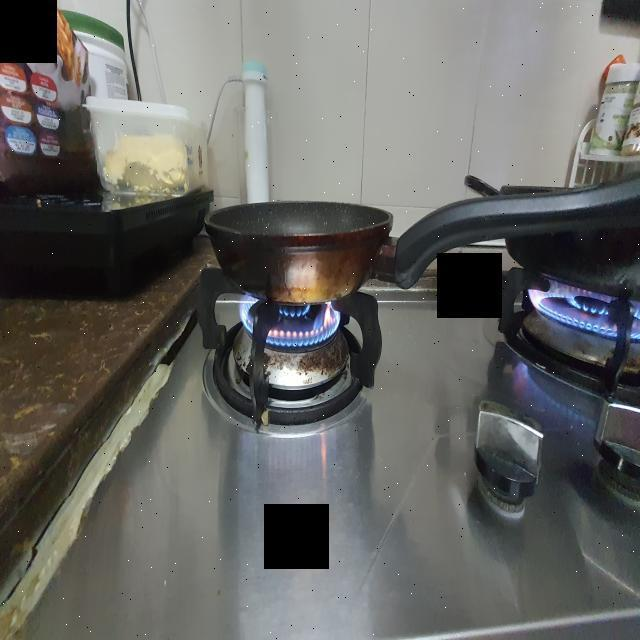Flame: (526, 264, 635, 368), (240, 288, 344, 362)
Pan: (475, 174, 640, 297), (211, 209, 388, 313)
